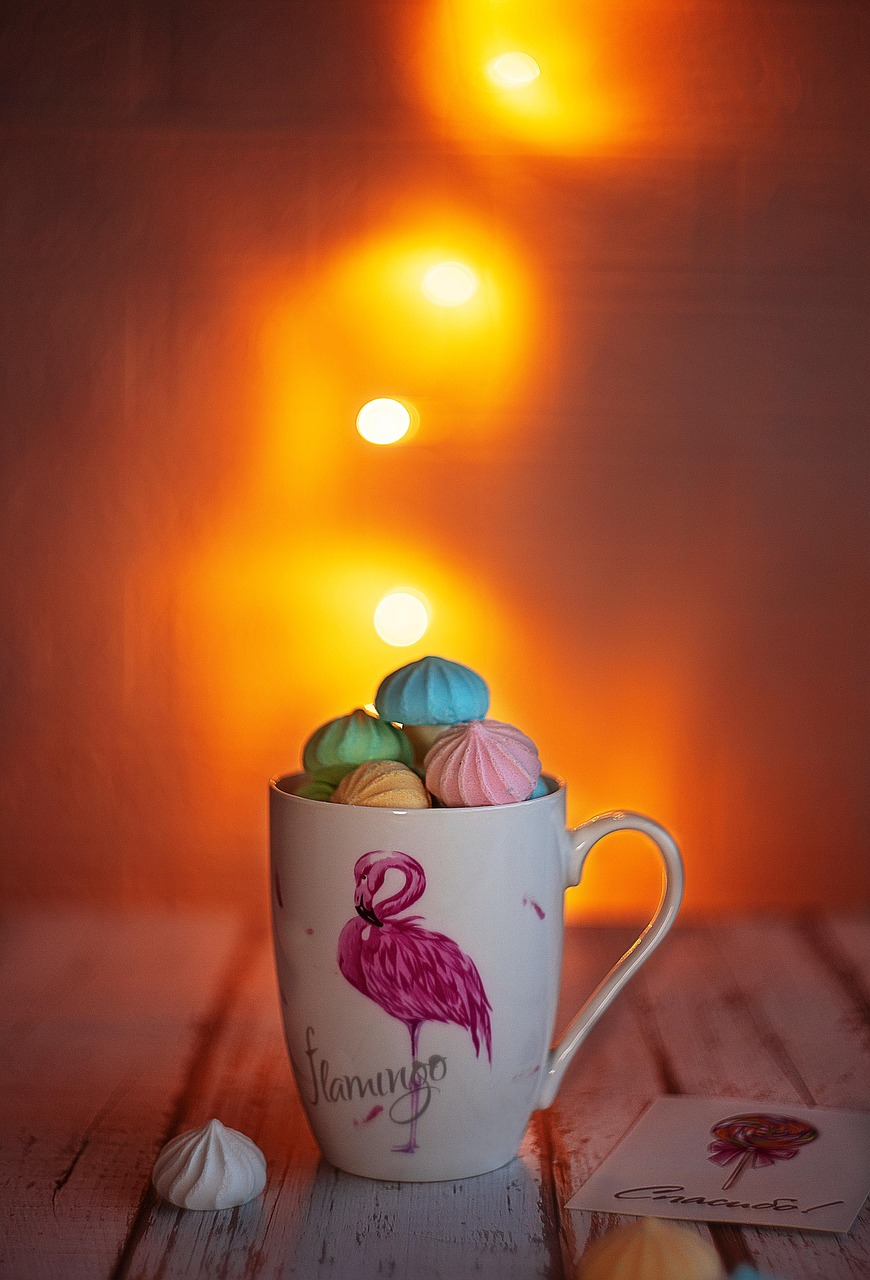mug: (224, 620, 733, 1221)
